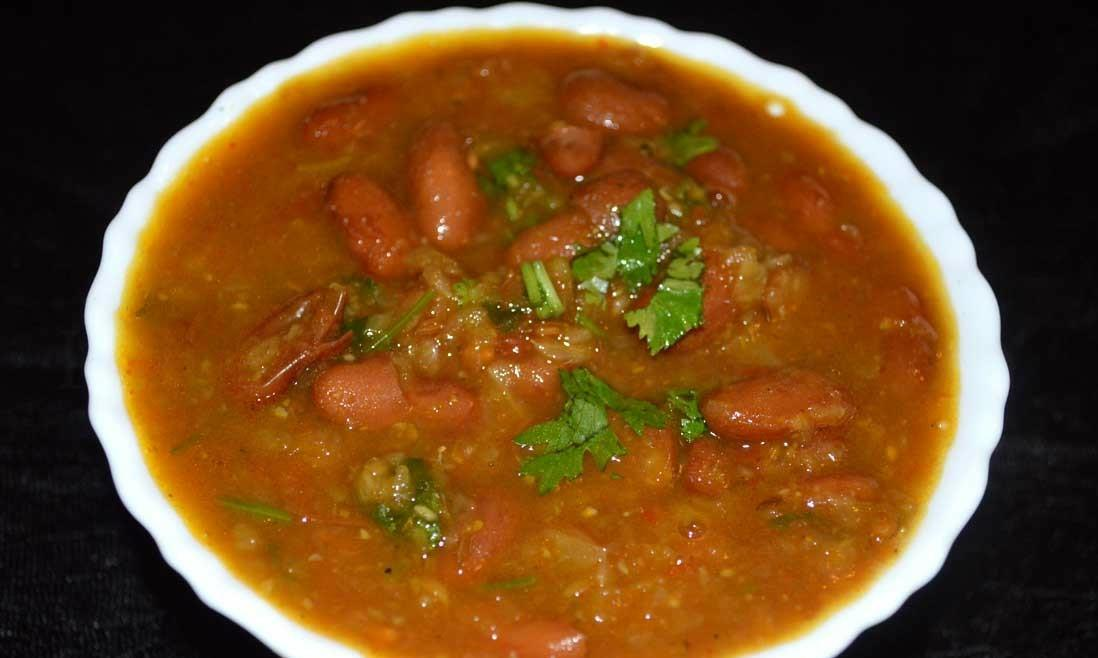RajmaCurry: (119, 36, 944, 658)
